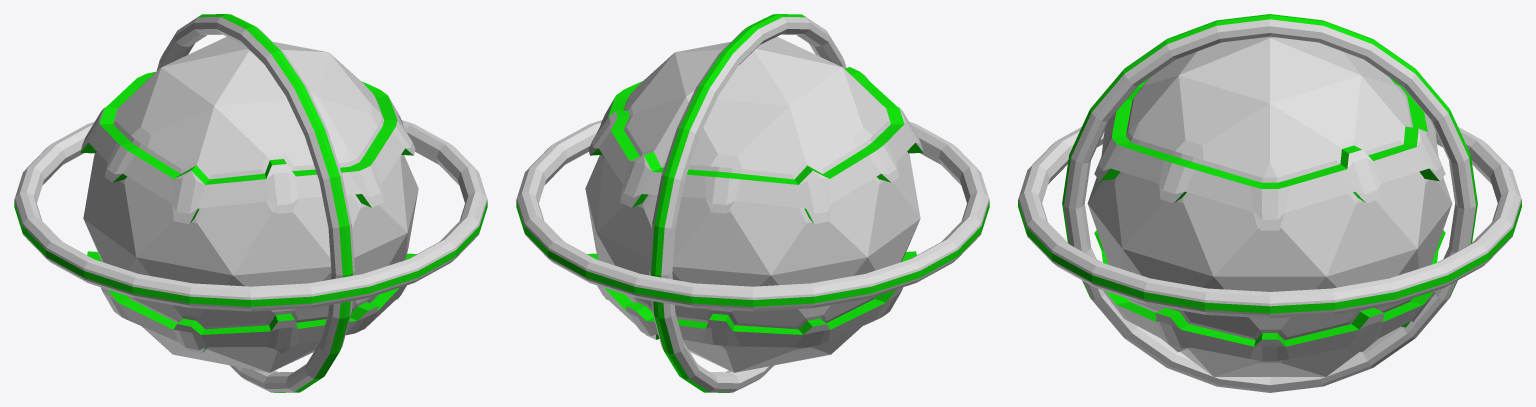
Rendered from boidBall.fbx.
3 renders of one model, left to right at view 1: azimuth 30°, elevation 25°; view 2: azimuth 150°, elevation 25°; view 3: azimuth 270°, elevation 25°, orthographic. The views are drawn at different scales.
Parts seen in each view (by area): view 1: Icosphere, Torus, Torus.001; view 2: Icosphere, Torus, Torus.001; view 3: Icosphere, Torus.001, Torus.
Part boxes in pixels (x1,y1,x2,y2): Icosphere: (80, 36, 418, 372); Torus: (14, 120, 487, 311); Torus.001: (156, 14, 354, 392); Icosphere: (585, 36, 923, 372); Torus: (516, 120, 989, 311); Torus.001: (649, 14, 846, 392); Icosphere: (1087, 36, 1452, 376); Torus.001: (1062, 14, 1477, 392); Torus: (1018, 127, 1521, 318).
Size of the model in its own units: 276 by 228 by 276.
